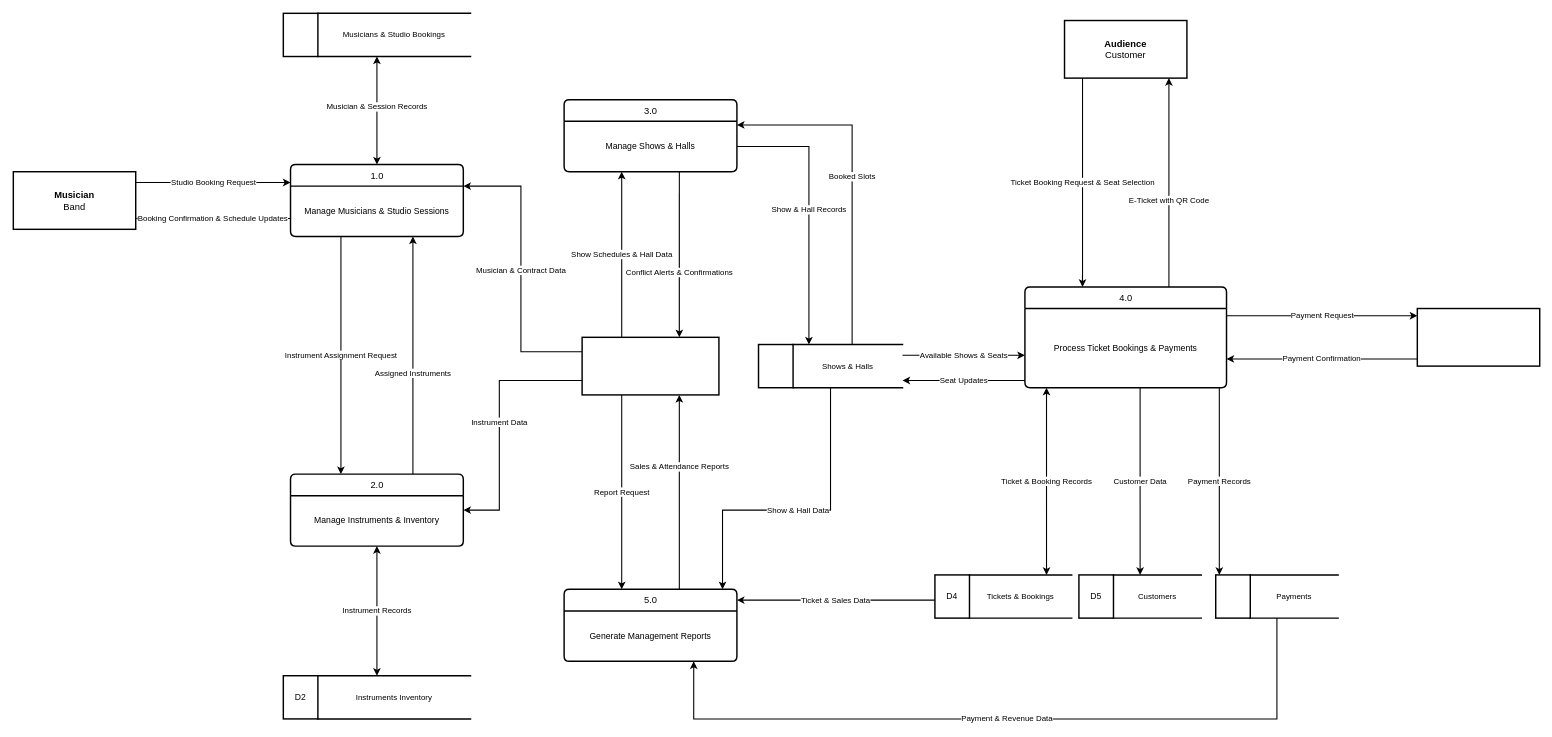
Some shapes in this 1552 by 737 pixel diagram are drawn without their labels. The box of each missing label's shape, as (x1, y1, x2, y2) in pixels:
Admin Studio Manager: (581, 336, 719, 395)
D1: (282, 12, 318, 57)
D3: (757, 343, 793, 388)
D6: (1215, 574, 1251, 618)
Payment Gateway: (1416, 307, 1540, 366)
